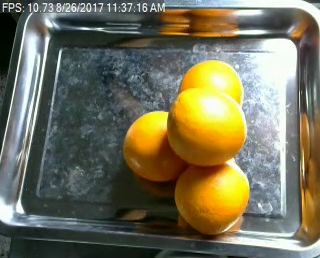Orange: (168, 87, 247, 165), (175, 157, 251, 235), (122, 109, 185, 180), (179, 59, 243, 115)
